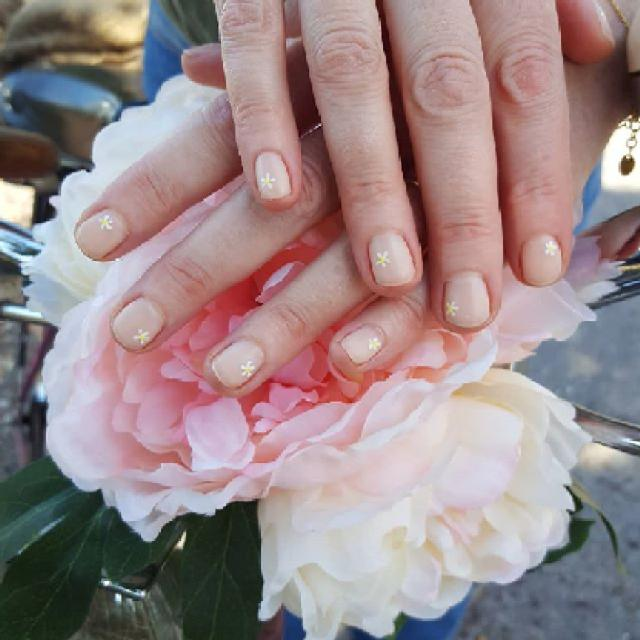Nail: (112, 298, 164, 350), (368, 232, 416, 288), (75, 209, 128, 259), (212, 339, 265, 388), (444, 272, 490, 328), (522, 235, 561, 286), (255, 151, 292, 201), (340, 325, 382, 365)
